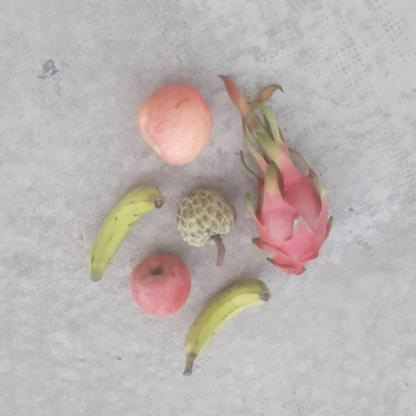annona: (178, 187, 238, 247)
apple: (139, 83, 219, 167), (113, 258, 189, 318)
banana: (85, 176, 163, 286), (184, 278, 274, 364)
pitaya: (258, 178, 332, 278)
